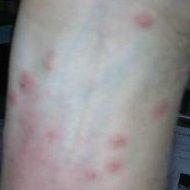Fleas: (130, 6, 157, 33), (14, 70, 40, 96), (148, 97, 172, 119), (83, 169, 100, 183), (108, 135, 127, 147), (41, 56, 54, 71), (106, 160, 122, 171), (9, 95, 17, 102)
